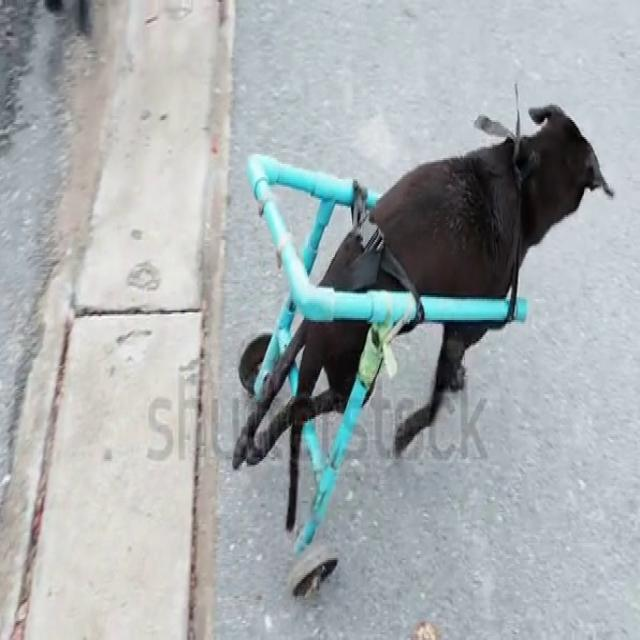injured-animals: (228, 80, 615, 600)
